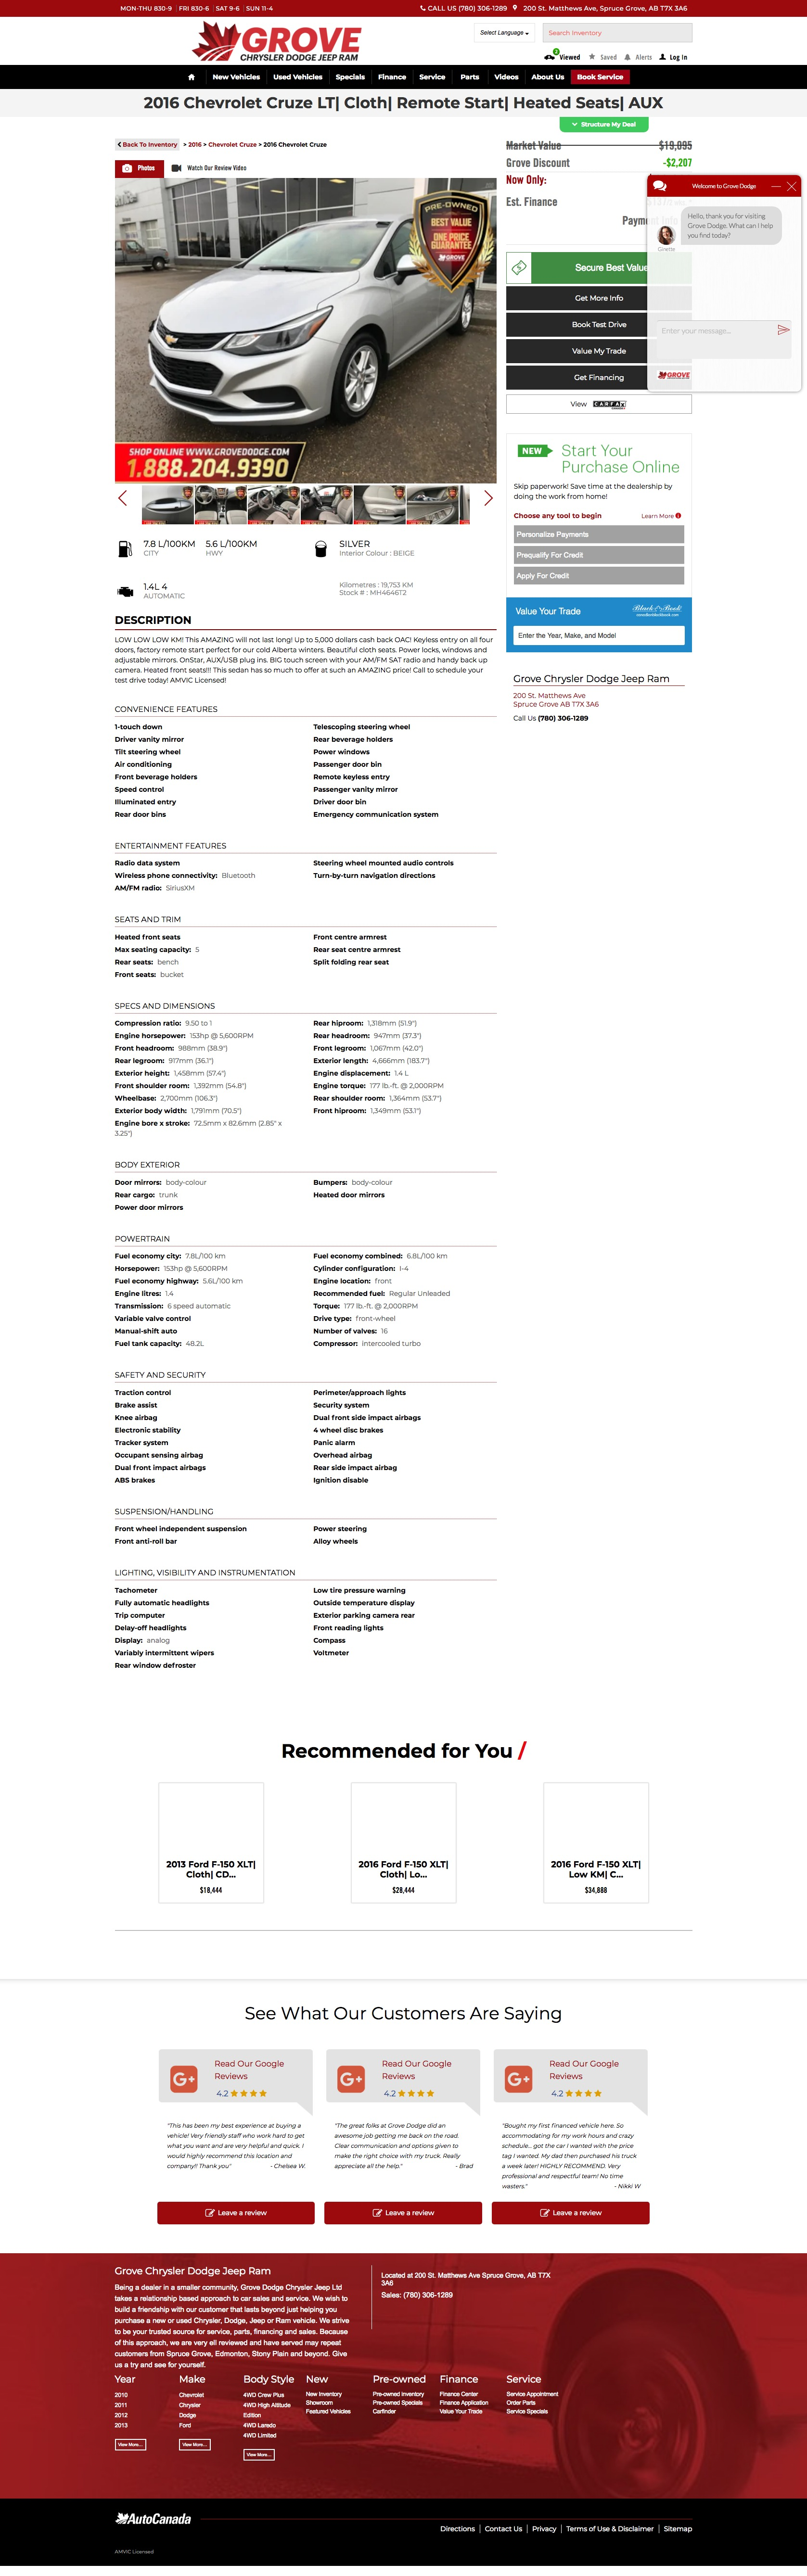car: (485, 491, 493, 506)
